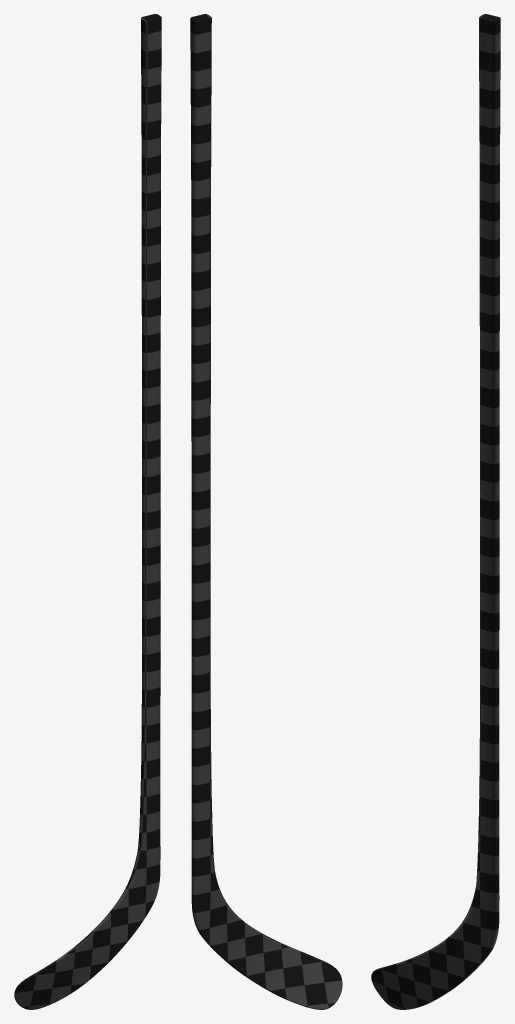
The model's file is P86-SBO.glb.
3 renders of one model, left to right at view 1: azimuth 30°, elevation 25°; view 2: azimuth 210°, elevation 25°; view 3: azimuth 330°, elevation 25°, orthographic. The views are drawn at different scales.
Visible parts, largest first — view 1: geometry_0; view 2: geometry_0; view 3: geometry_0.
Part boxes in pixels (x1,y1,x2,y2): geometry_0: [14, 14, 161, 1009]; geometry_0: [190, 14, 342, 1009]; geometry_0: [371, 14, 500, 1009].
Size of the model in its own units: 235 by 1650 by 56.43.
Materials: 1 (1 with a texture image).
